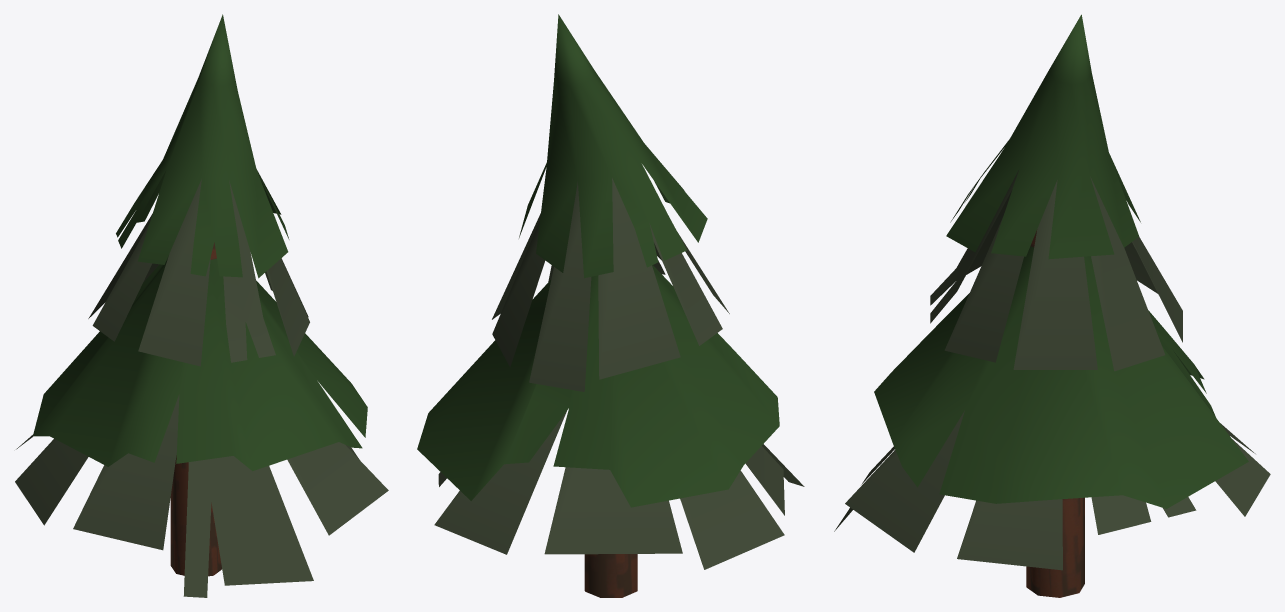
File: Kuusi1_16_plane_ripD17.fbx
3 renders of one model, left to right at view 1: azimuth 30°, elevation 25°; view 2: azimuth 150°, elevation 25°; view 3: azimuth 270°, elevation 25°, orthographic. The views are drawn at different scales.
Visible parts, largest first — view 1: Winner_kuusi; view 2: Winner_kuusi; view 3: Winner_kuusi.
Boxes of the visible parts, left/top/right/bottom form: Winner_kuusi: left=15, top=14, right=388, bottom=597; Winner_kuusi: left=417, top=14, right=804, bottom=597; Winner_kuusi: left=834, top=14, right=1270, bottom=597.
Size of the model in its own units: 2.01 by 3.31 by 2.22.
1 material, 1 textured.
